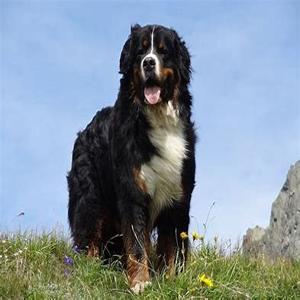dog: (81, 31, 193, 257)
